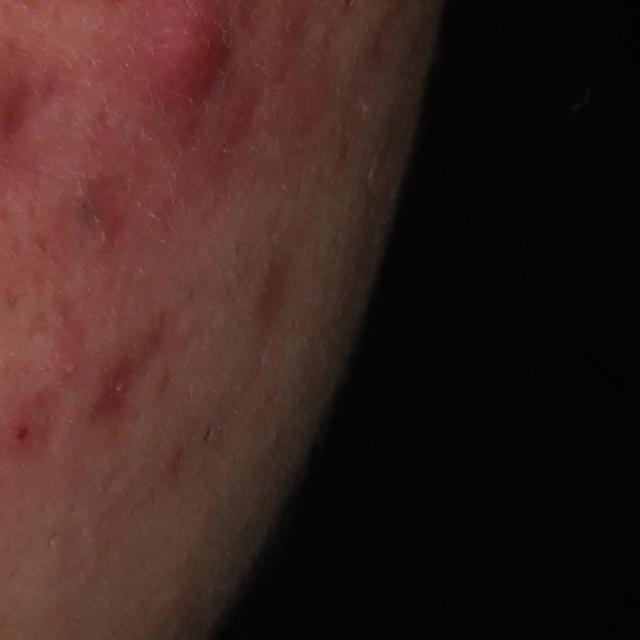papule: (3, 412, 45, 454)
